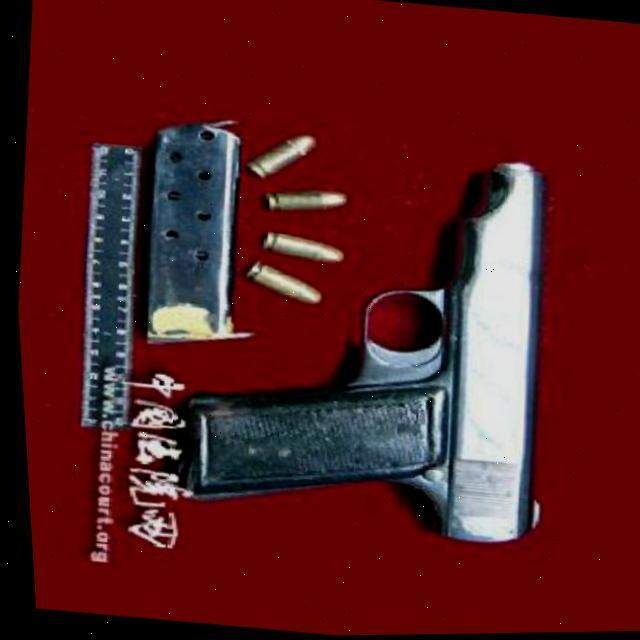gun: (147, 122, 576, 554)
